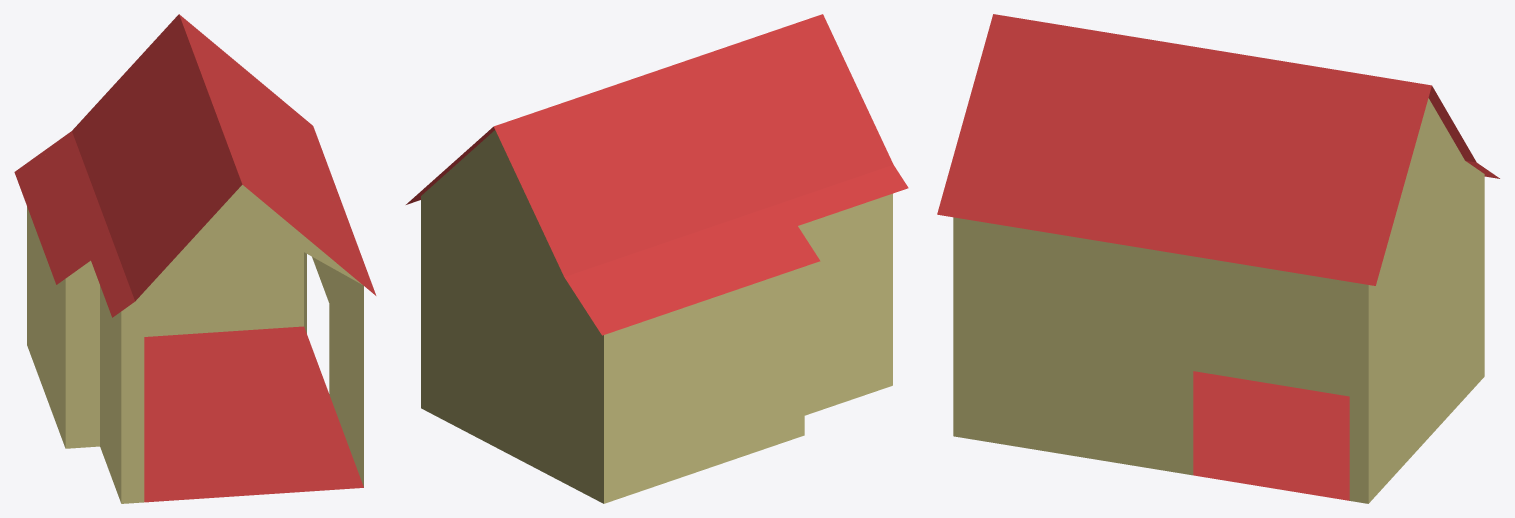
3 views of the same model, side by side, from view 1: azimuth 30°, elevation 25°; view 2: azimuth 150°, elevation 25°; view 3: azimuth 270°, elevation 25° (orthographic). The views are drawn at different scales.
Bounding box in the file's own units: 18.1 × 22.36 × 15.92.
